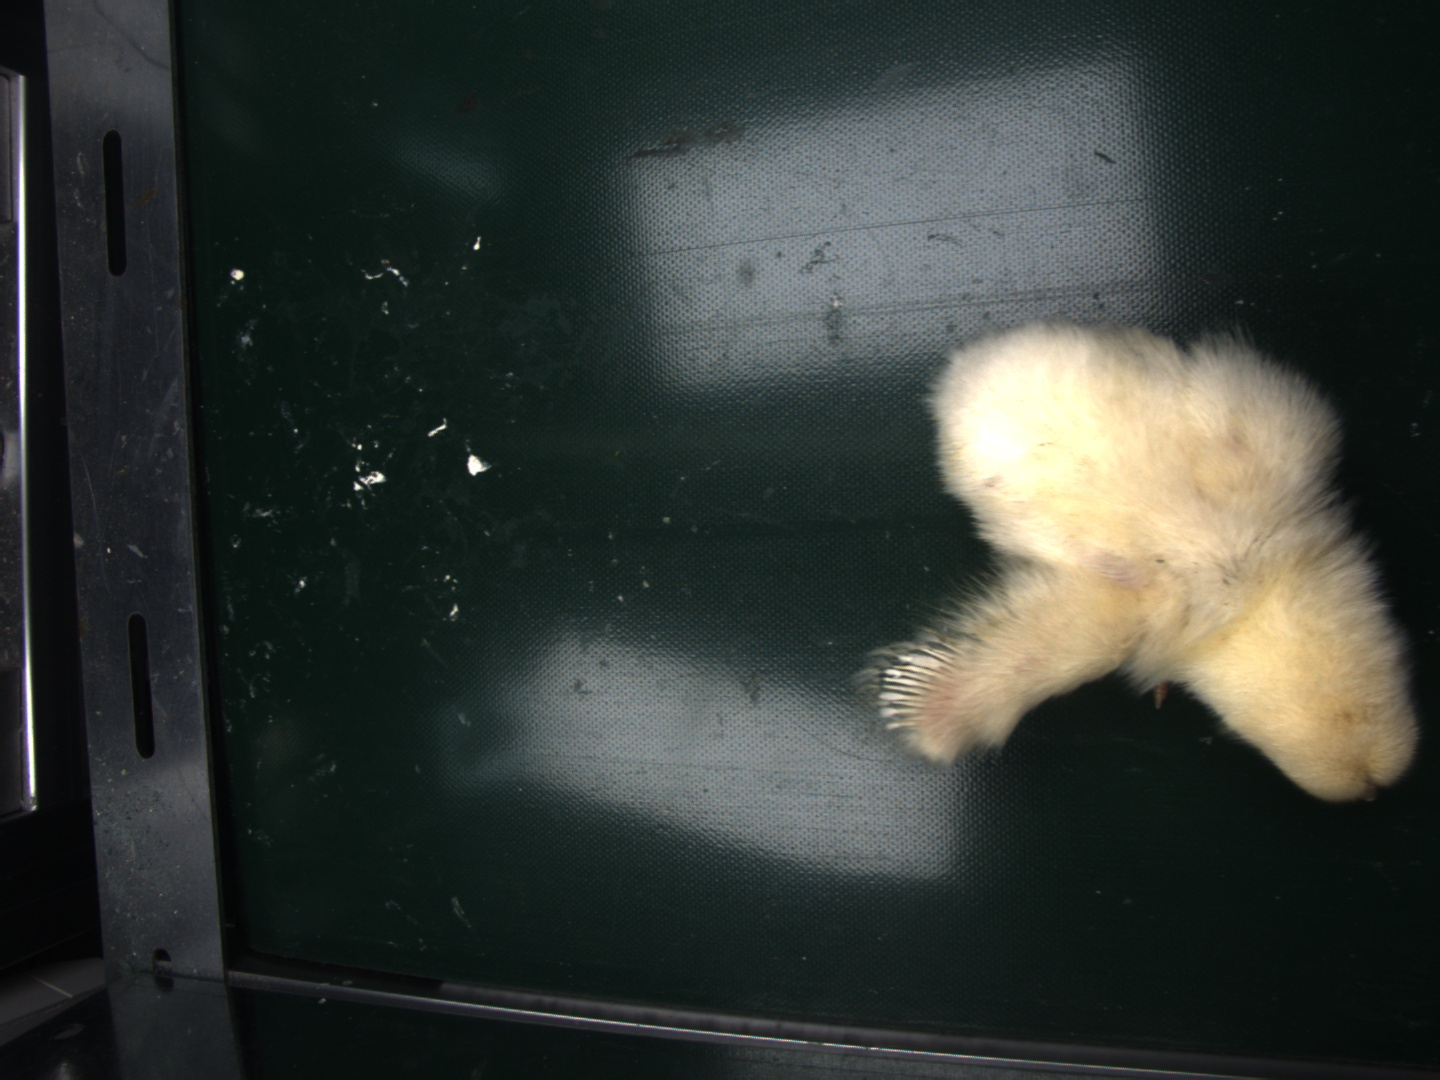male: (875, 641, 948, 726)
